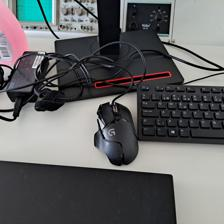mouse: (91, 99, 139, 167)
